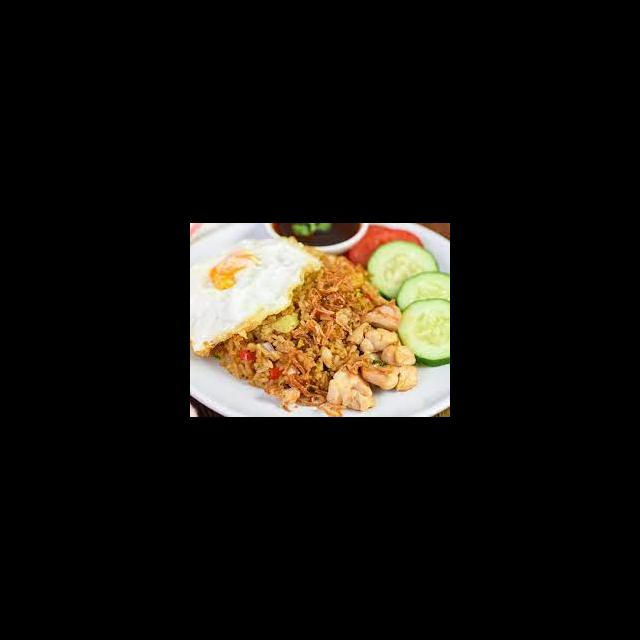food_waste: (229, 252, 443, 382)
